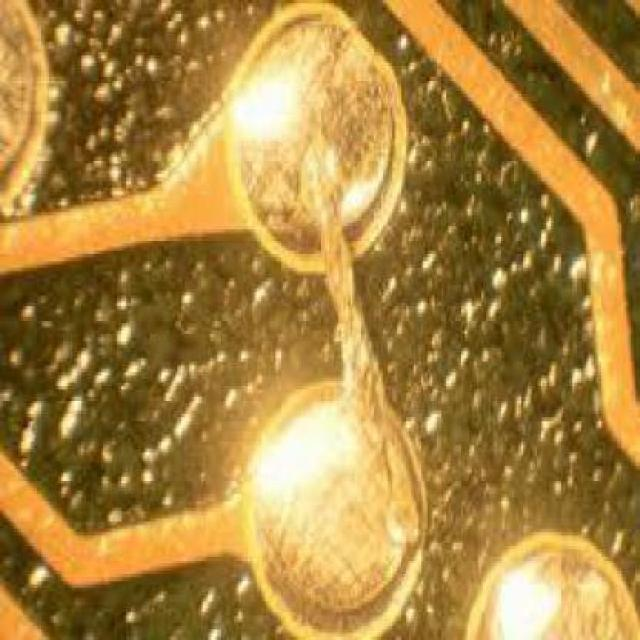Soldering bridge: (234, 3, 423, 640)
